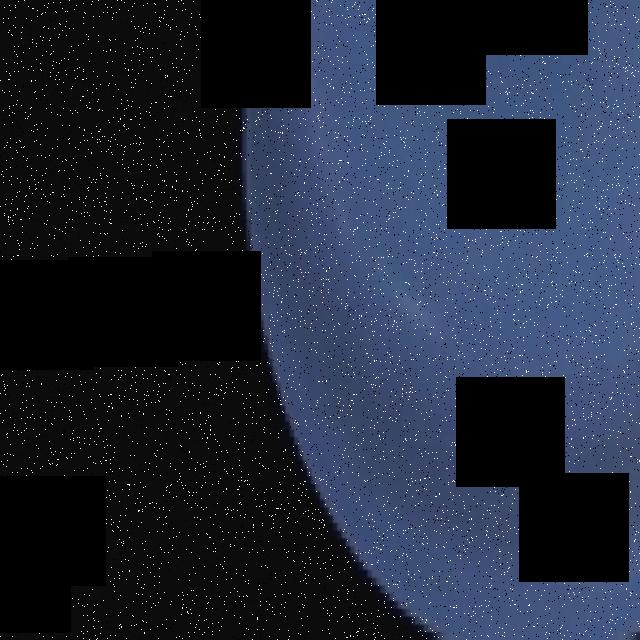Neptune: (242, 0, 640, 640)
